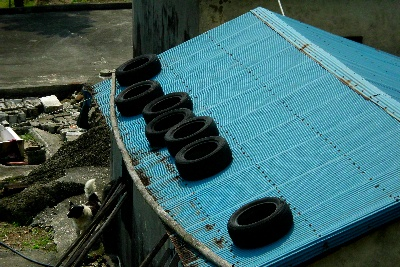tire: (227, 195, 296, 249), (174, 136, 235, 183), (165, 116, 222, 155), (115, 81, 166, 117), (147, 108, 194, 146), (143, 91, 195, 124), (116, 55, 163, 86)
